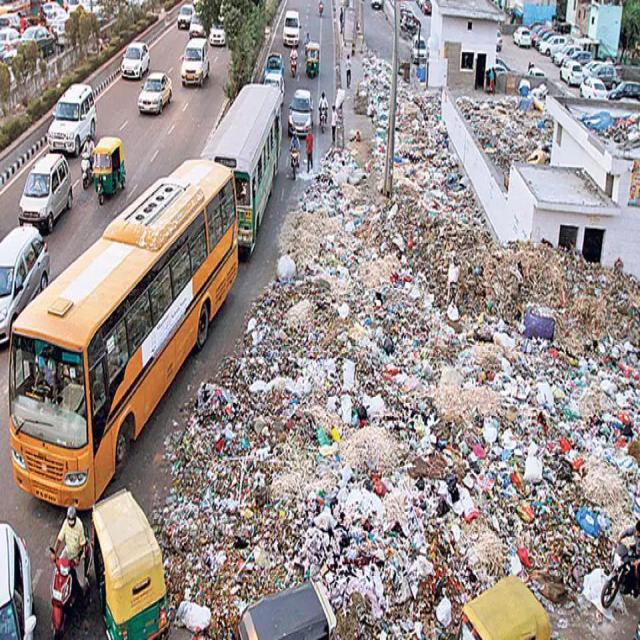garbage: (162, 47, 640, 640)
